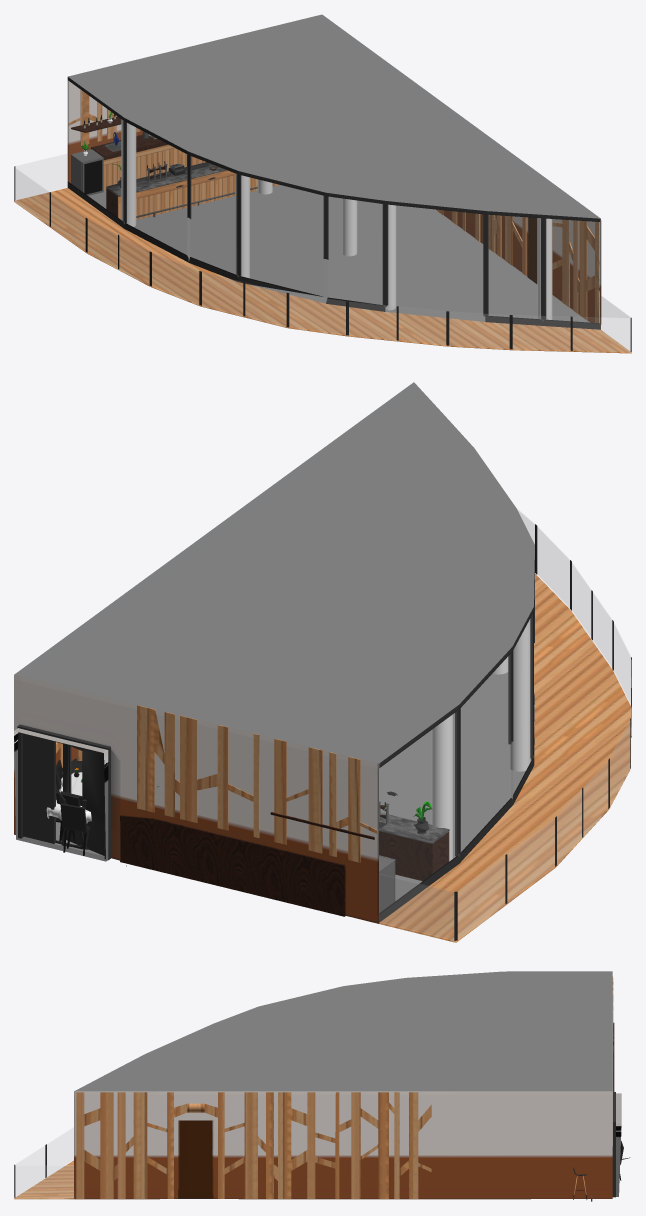
File: quan.gltf
3 renders of one model, top to bottom at view 1: azimuth 30°, elevation 25°; view 2: azimuth 150°, elevation 25°; view 3: azimuth 270°, elevation 25°, orthographic. The views are drawn at different scales.
Visible parts, largest first — view 1: shell; view 2: shell, g4; view 3: shell.
Boxes of the visible parts, box(x1,y1,x2,y2) form: shell: box(14, 14, 631, 353); shell: box(14, 382, 631, 942); g4: box(56, 798, 90, 855); shell: box(14, 971, 621, 1199).
Bounding box in the file's own units: 9.7 × 3.32 × 17.18.
3 materials, 2 textured.
